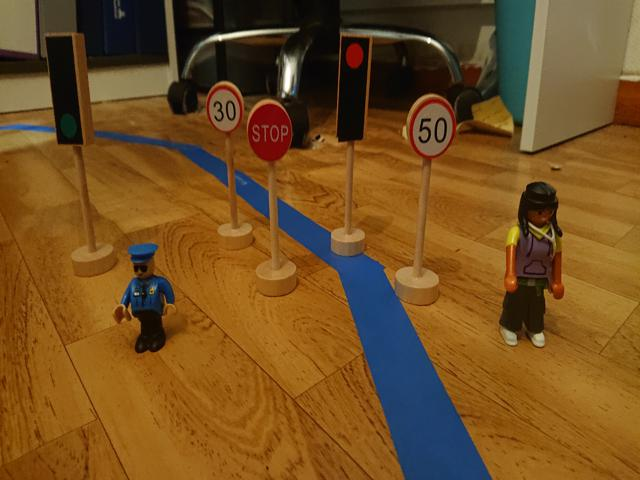30 speed sign: (206, 83, 242, 135)
50 speed sign: (411, 98, 457, 160)
green light: (48, 37, 84, 144)
person: (498, 183, 566, 353), (113, 245, 175, 356)
red light: (340, 37, 368, 136)
stop sign: (247, 104, 292, 162)
